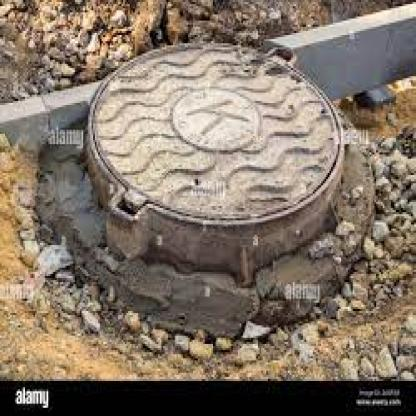closed manhole-not overflowing-: (80, 30, 360, 288)
